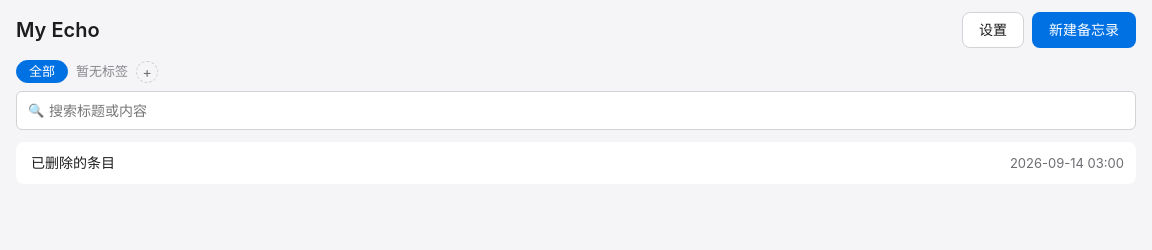
Scenario: App 关键流程 › 编辑不存在的备忘录（E_NOT_FOUND）先展示提示再回列表
The image size is (1152, 250).
Step 1. Click the button "已删除的条目 2026-09-14 03:00" → (73, 163), box [16,142,1136,184]
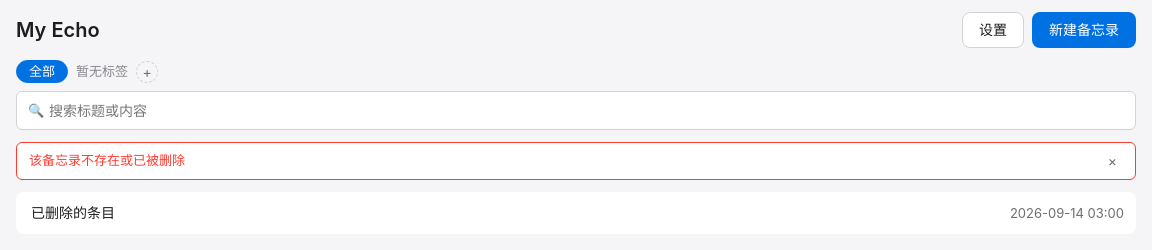
Expected: the list with class "memo-list" is shown, [16,192,1136,234]
Expected: the text "该备忘录不存在或已被删除" is shown, [29,151,185,171]
